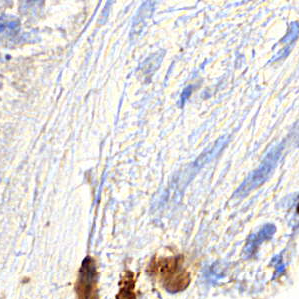Lymphocyte: (149, 253, 193, 291)
